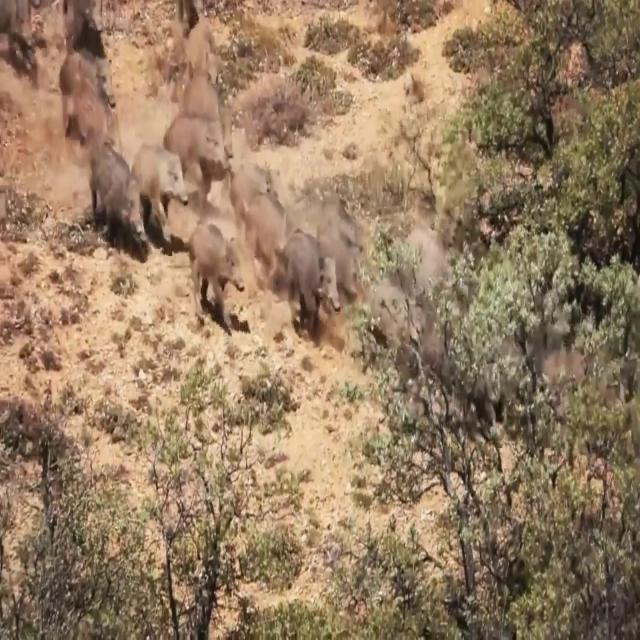pig: (269, 222, 343, 340), (90, 123, 153, 261), (120, 107, 182, 241), (185, 202, 239, 331), (53, 54, 128, 146), (161, 112, 235, 194)
